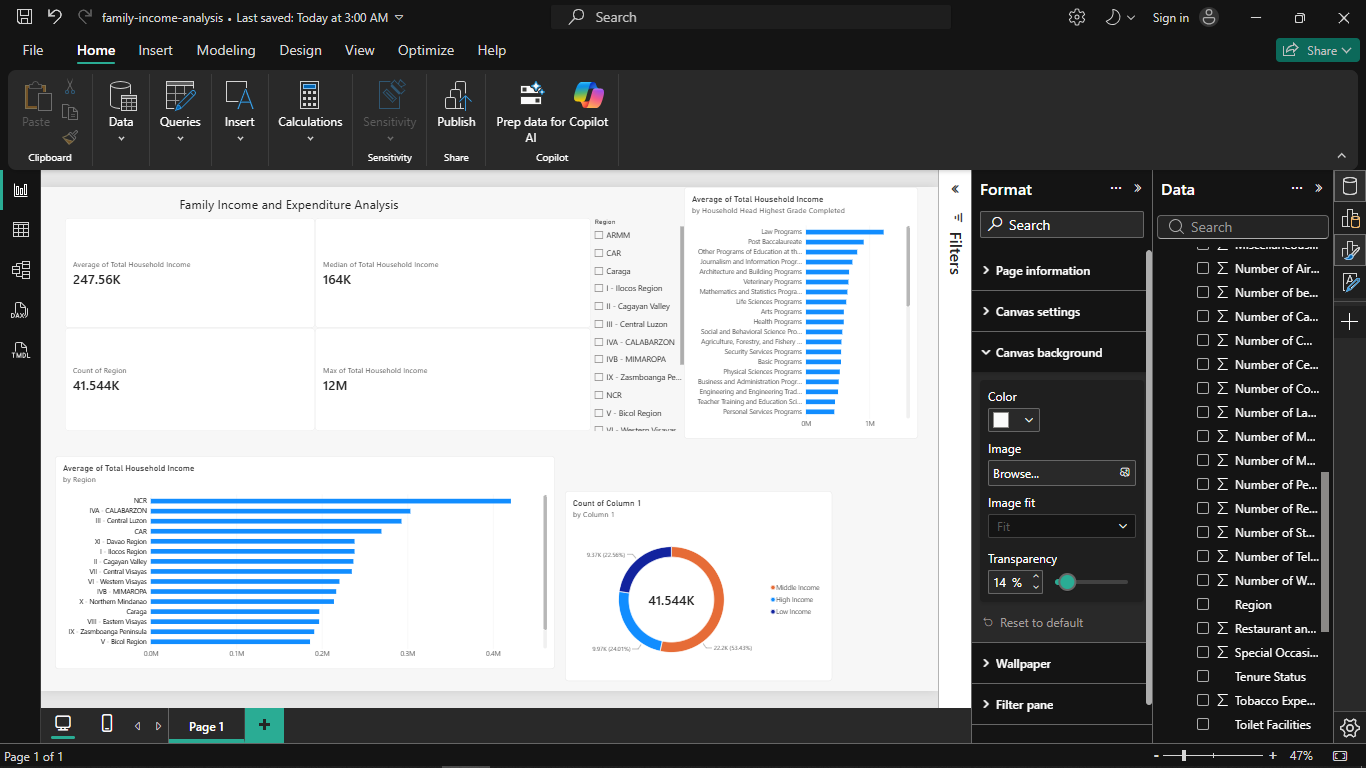

The dashboard page shown, as its layout file describes it:
{"tool":"powerbi","page":{"name":"Page 1","canvas":[1920,1080],"ordinal":0},"visuals":[{"type":"cardVisual","fields":{"Data":["Avg(Family Income and Expenditure.Total Household Income)"]},"box":[51.4,66.4,535.1,235.5],"z":0},{"type":"cardVisual","fields":{"Data":["CountNonNull(Family Income and Expenditure.Region)"]},"box":[51.4,301.8,535.1,220.5],"z":1},{"type":"cardVisual","fields":{"Data":["Median(Family Income and Expenditure.Total Household Income)"]},"box":[586.5,66.4,590.8,235.5],"z":2},{"type":"cardVisual","fields":{"Data":["Max(Family Income and Expenditure.Total Household Income)"]},"box":[586.5,301.8,590.8,220.5],"z":3},{"type":"clusteredBarChart","fields":{"Category":["Family Income and Expenditure.Region"],"Y":["Avg(Family Income and Expenditure.Total Household Income)"]},"box":[30,575.8,1070.2,455.9],"z":4},{"type":"donutChart","fields":{"Category":["Family Income and Expenditure.Column 1"],"Y":["CountNonNull(Family Income and Expenditure.Column 1)"]},"box":[1121.6,650.7,571.5,406.7],"z":5},{"type":"clusteredBarChart","fields":{"Category":["Family Income and Expenditure.Household Head Highest Grade Completed"],"Y":["Avg(Family Income and Expenditure.Total Household Income)"]},"box":[1376.3,0,500.9,539.4],"z":6},{"type":"slicer","fields":{"Values":["Family Income and Expenditure.Region"]},"box":[1177.3,66.4,199.1,455.9],"z":7},{"type":"textbox","box":[100.6,0,860.5,66.4],"z":8}]}

Visuals, with their boxes on the page's 1920x1080 design canvas (x1, y1, x2, y2). These are canvas units, not pixel positions in the 1366x768 screenshot, which may show the page scaled, cropped or inside an application window:
cardVisual - Avg(Family Income and Expenditure.Total Household Income): 51, 66, 586, 302
cardVisual - CountNonNull(Family Income and Expenditure.Region): 51, 302, 586, 522
cardVisual - Median(Family Income and Expenditure.Total Household Income): 586, 66, 1177, 302
cardVisual - Max(Family Income and Expenditure.Total Household Income): 586, 302, 1177, 522
clusteredBarChart - Family Income and Expenditure.Region x Avg(Family Income and Expenditure.Total Household Income): 30, 576, 1100, 1032
donutChart - Family Income and Expenditure.Column 1 x CountNonNull(Family Income and Expenditure.Column 1): 1122, 651, 1693, 1057
clusteredBarChart - Family Income and Expenditure.Household Head Highest Grade Completed x Avg(Family Income and Expenditure.Total Household Income): 1376, 0, 1877, 539
slicer - Family Income and Expenditure.Region: 1177, 66, 1376, 522
textbox: 101, 0, 961, 66
